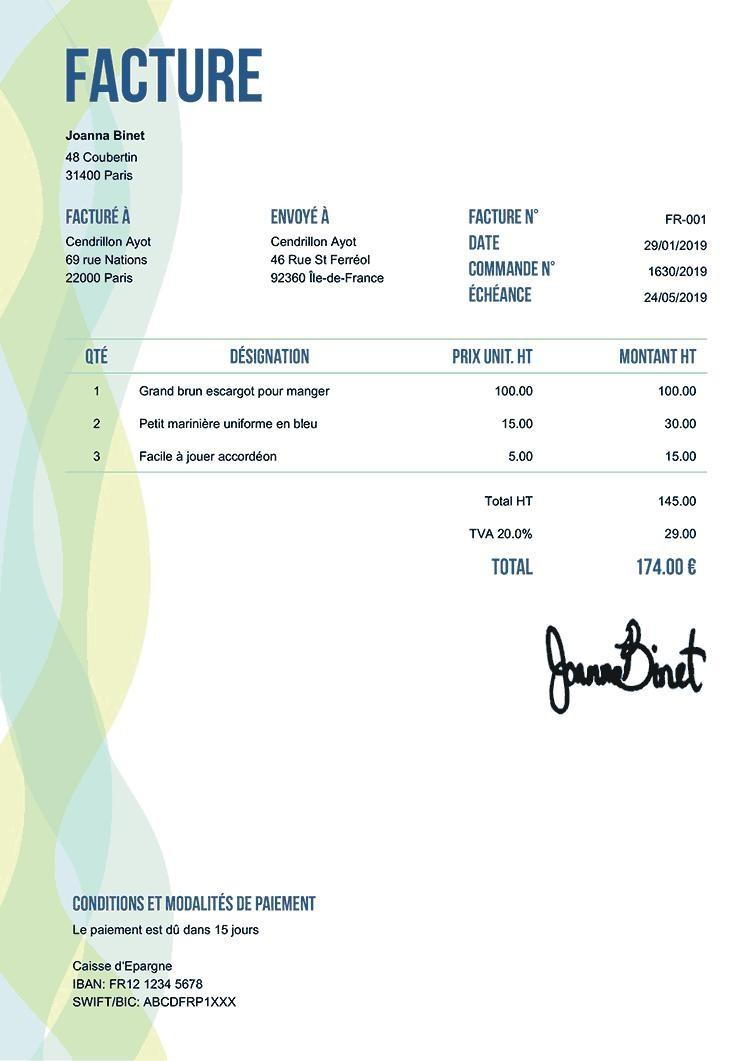ROI: (75, 339, 710, 475), (465, 200, 720, 309), (462, 487, 702, 579), (66, 916, 283, 1012), (59, 201, 181, 303), (57, 122, 167, 190)
